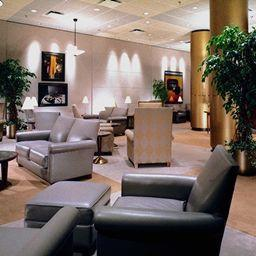Matera: (209, 25, 253, 174)
